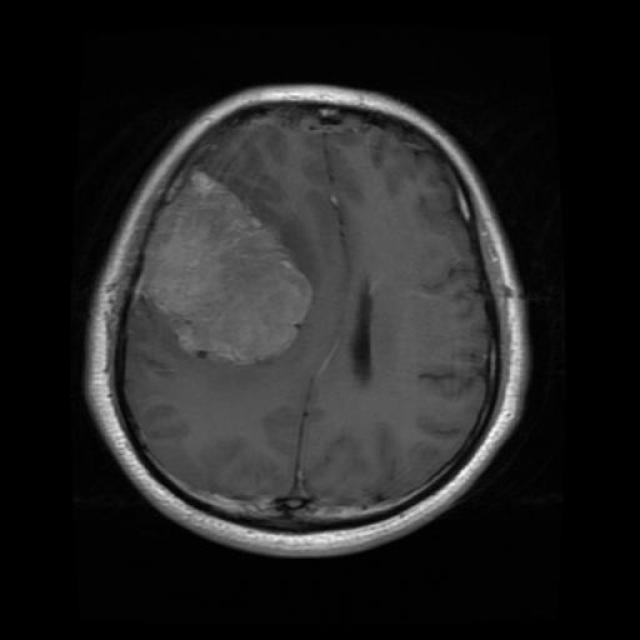Meningioma: (140, 172, 310, 364)
